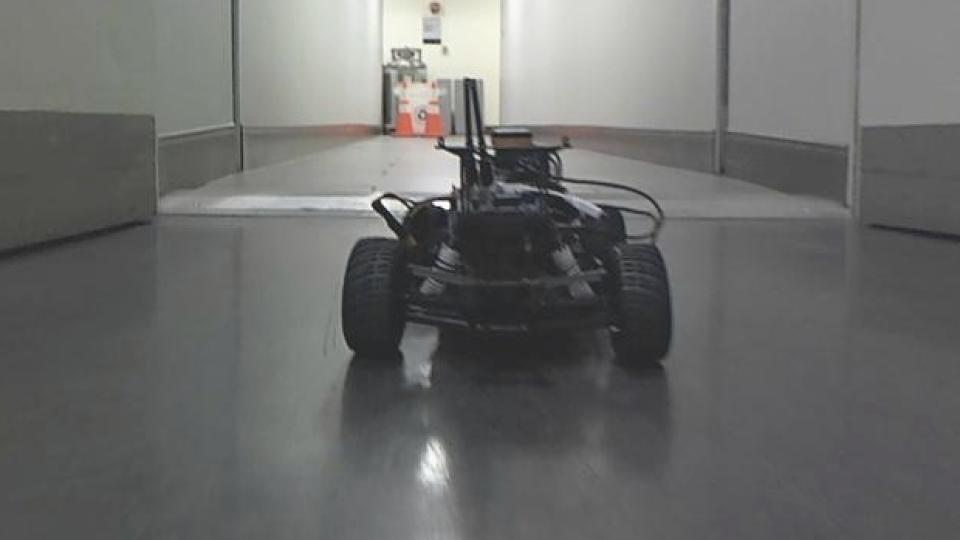car: (338, 74, 678, 370)
